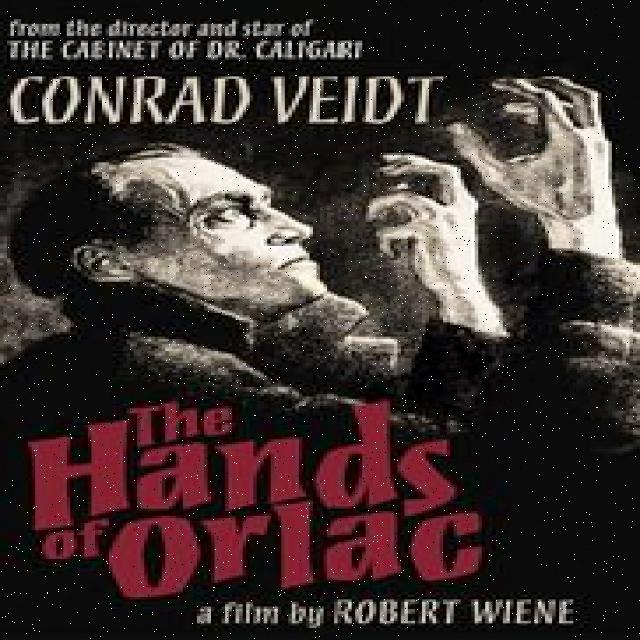movie-judul: (20, 394, 587, 630), (3, 8, 452, 133)
picture: (2, 62, 640, 442)
